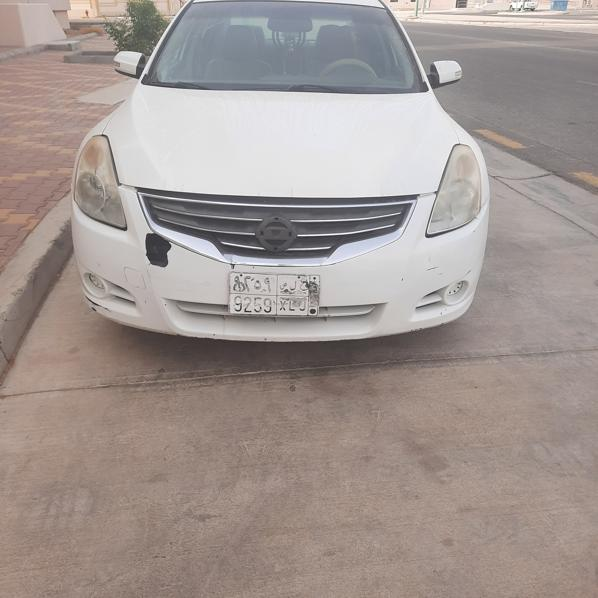numberplate: (230, 272, 320, 317)
